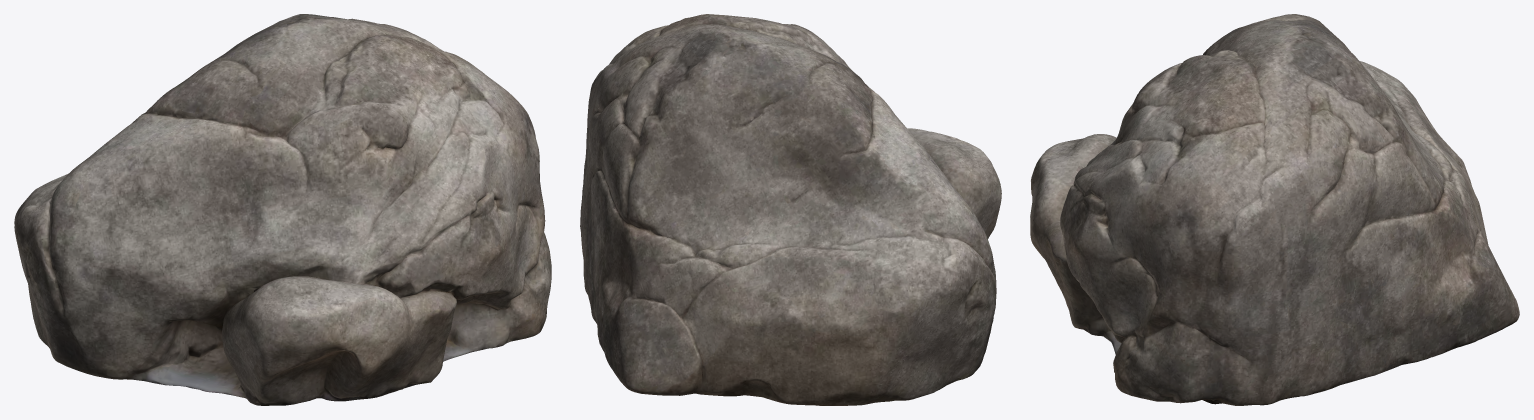
The model's file is model-web.glb.
3 renders of one model, left to right at view 1: azimuth 30°, elevation 25°; view 2: azimuth 150°, elevation 25°; view 3: azimuth 270°, elevation 25°, orthographic. The views are drawn at different scales.
Parts seen in each view (by area): view 1: world; view 2: world; view 3: world.
Part boxes in pixels (x1,y1,x2,y2): world: (14, 14, 551, 405); world: (580, 14, 1001, 405); world: (1030, 14, 1519, 405).
Size of the model in its own units: 1 by 0.6033 by 0.937.
1 material, 1 textured.
